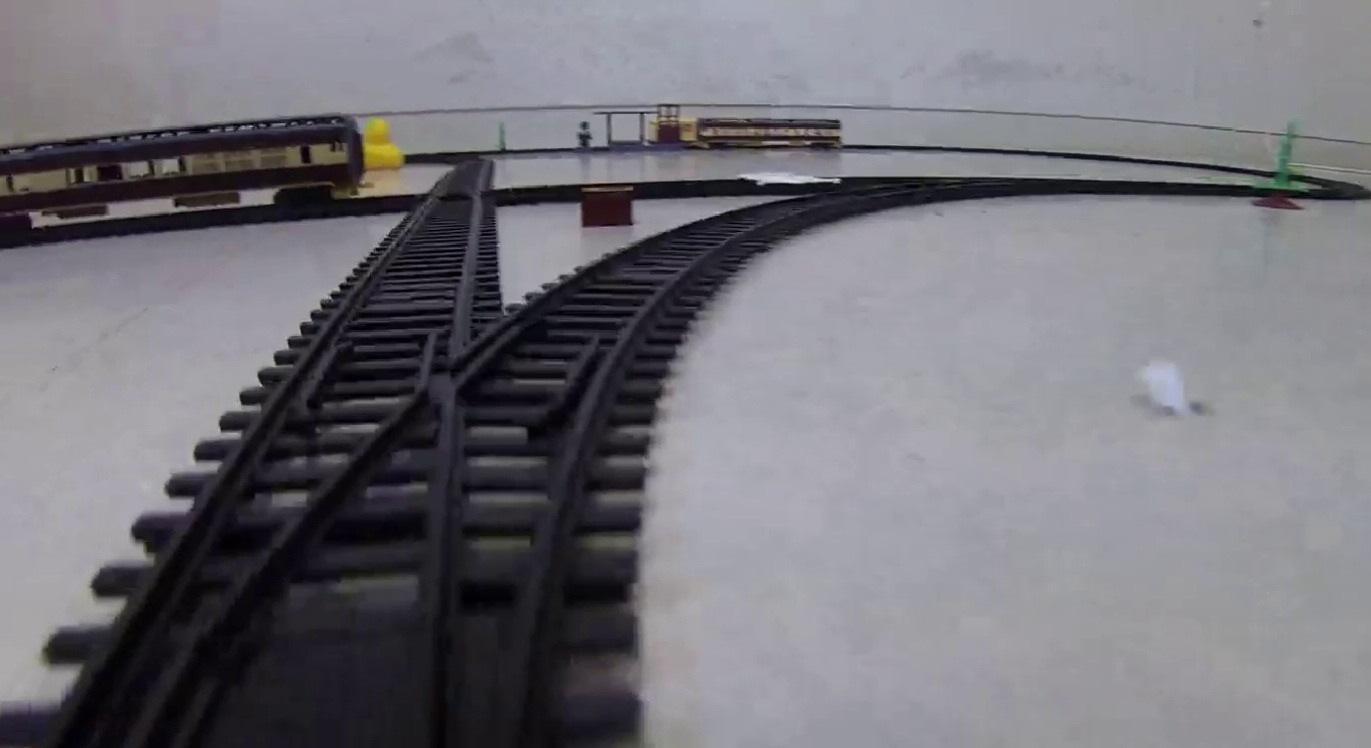box: (580, 188, 636, 227)
